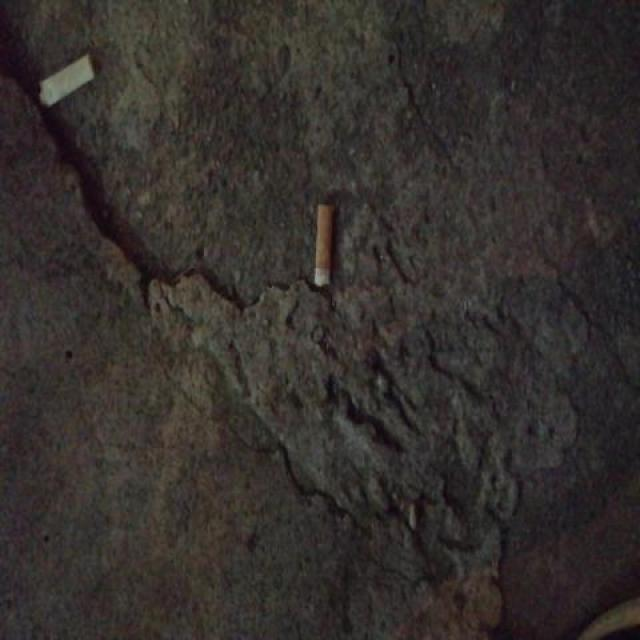non-organic waste: (36, 46, 100, 118), (307, 198, 341, 290)
